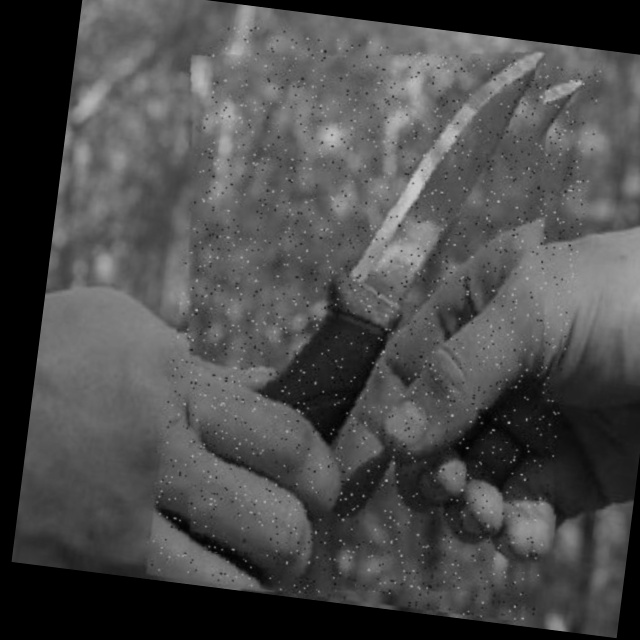Sharp-Object: (146, 22, 602, 623)
